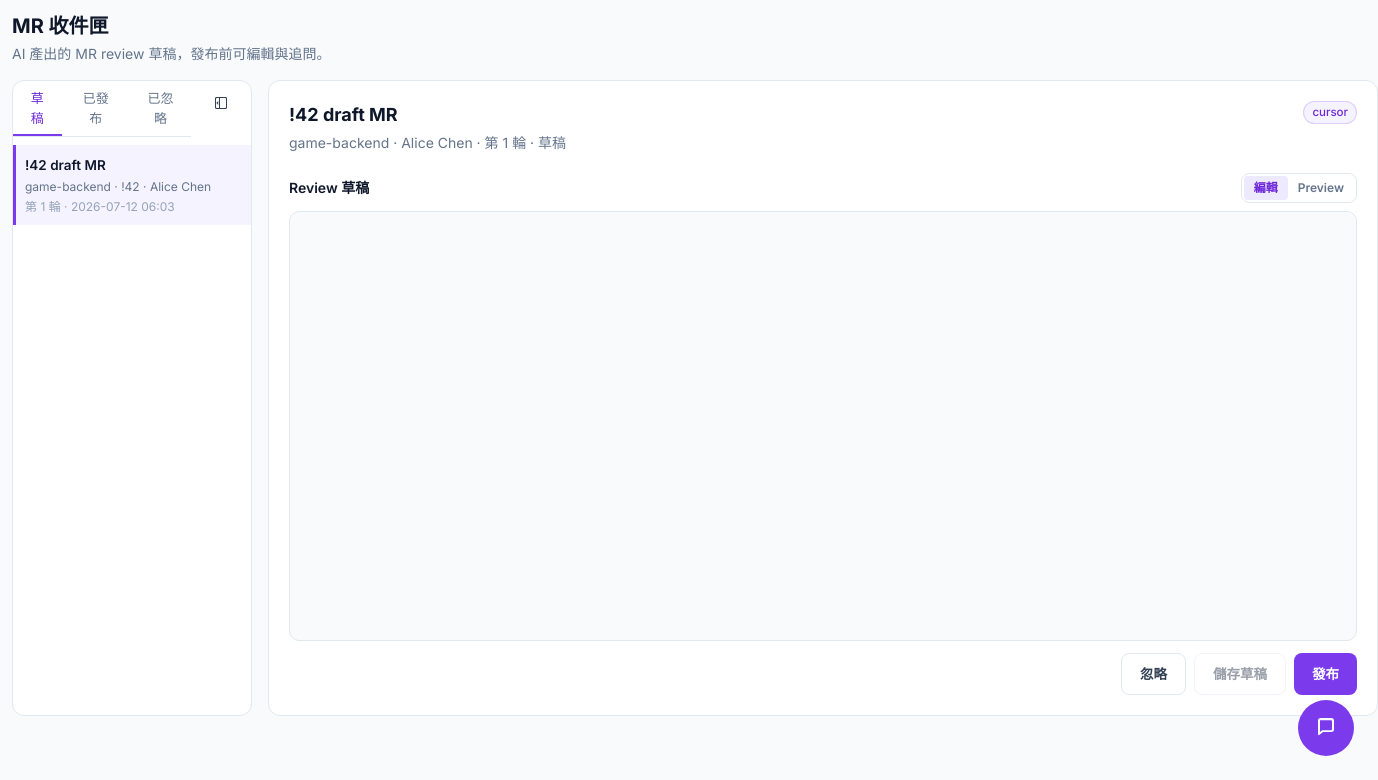
Test: MrInboxPage › preview new version is read-only and keeps editor text
Type "my local edit" into the text box labelled "Review 草稿" at (823, 426), box [289,211,1357,641]
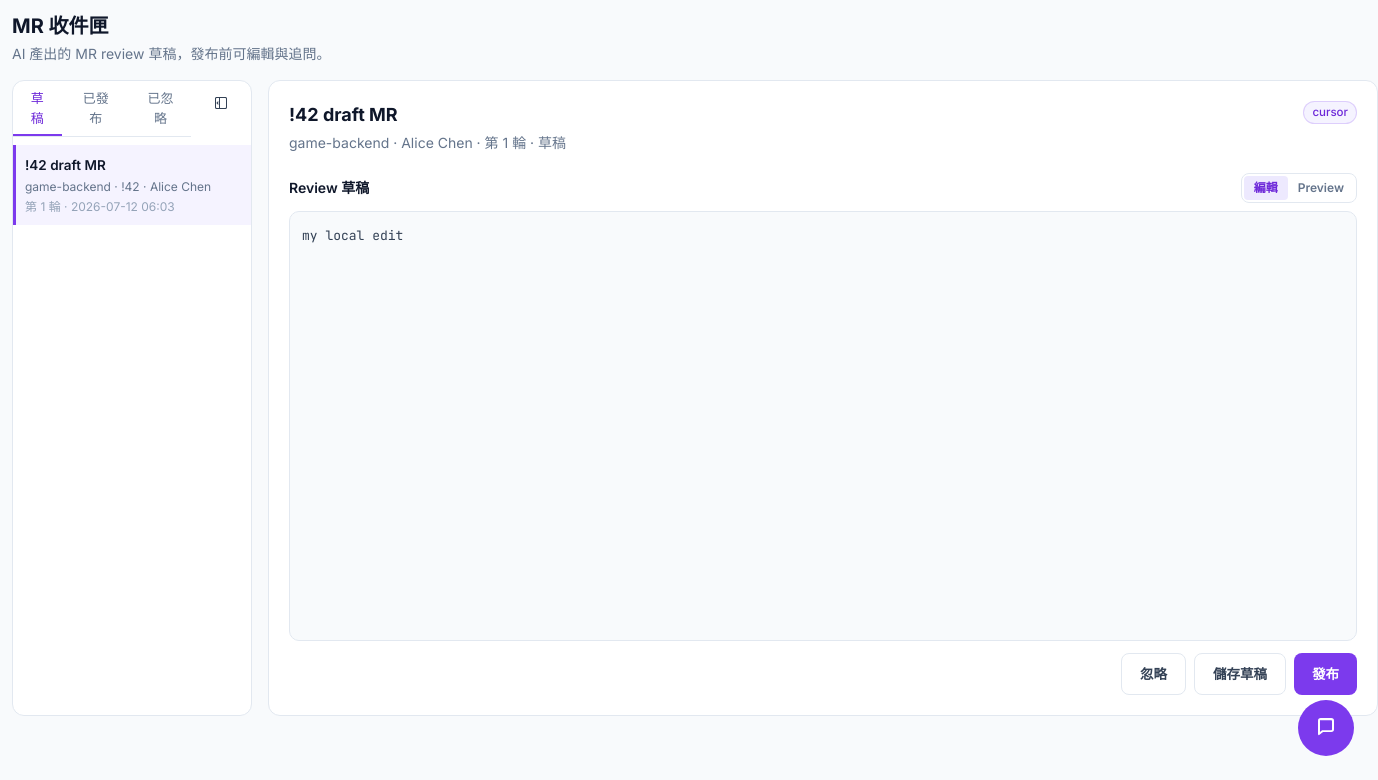
Click the button named "展開 Agent Chat" at (1326, 728), box [1298,700,1354,756]
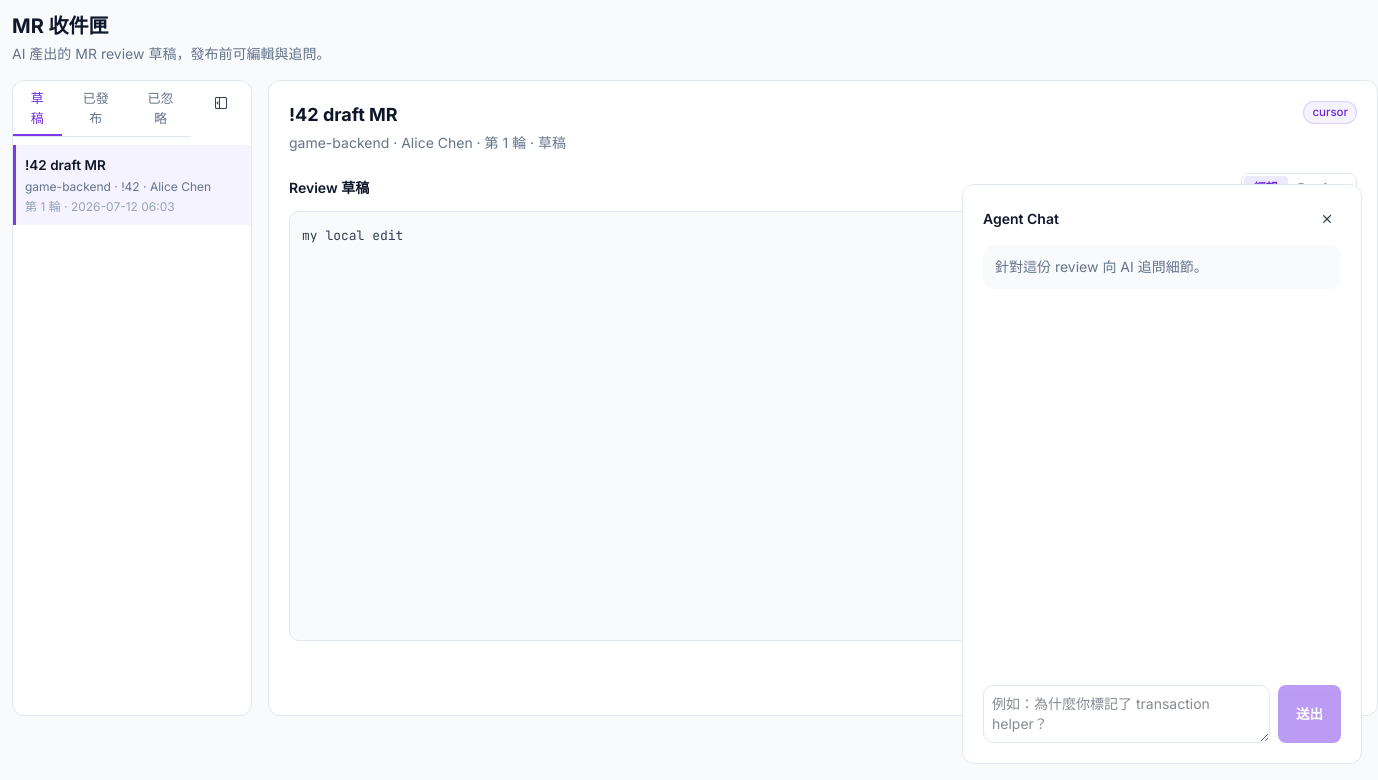
Type "please revise" into the text box with placeholder "例如：為什麼你標記了 transaction helper？" at (1126, 714), box [983,685,1270,743]
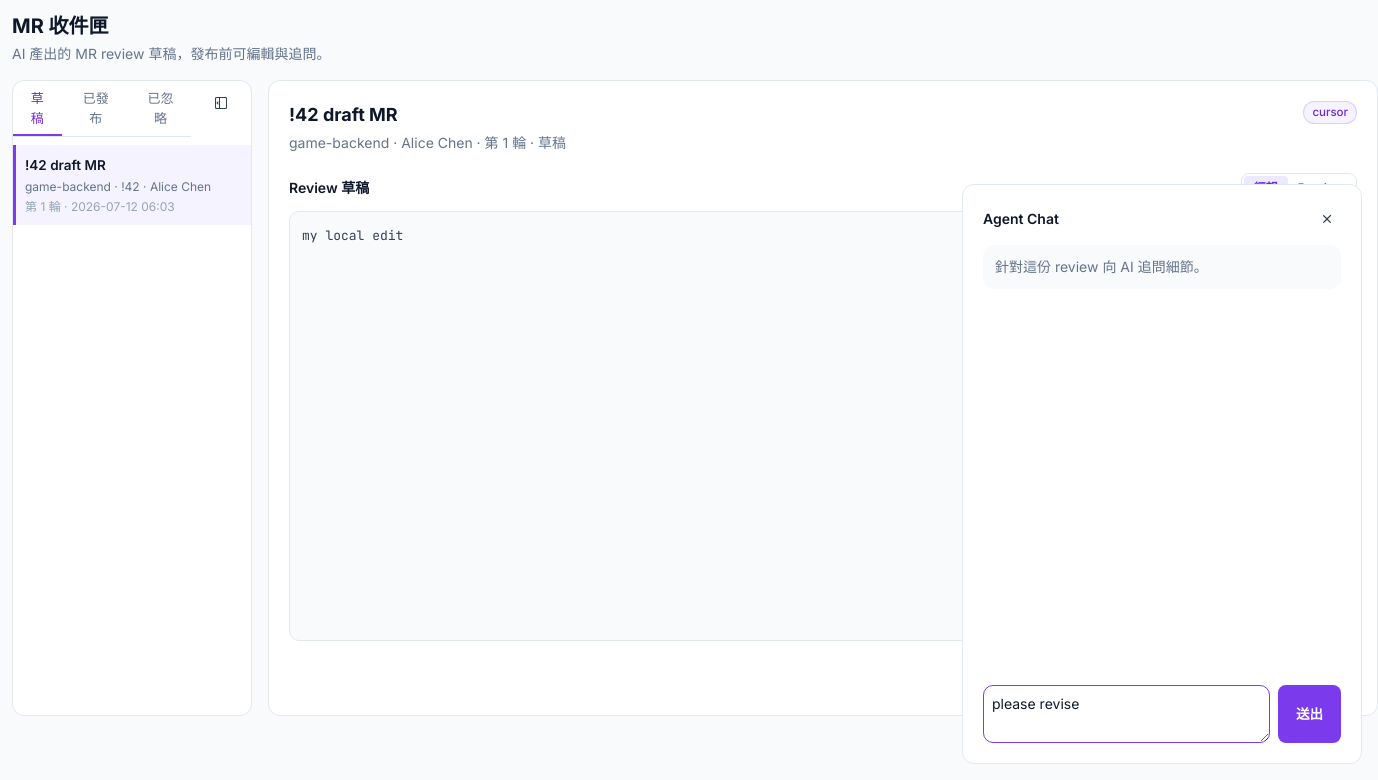
Click the button "送出" at (1310, 714), box [1278,685,1341,743]
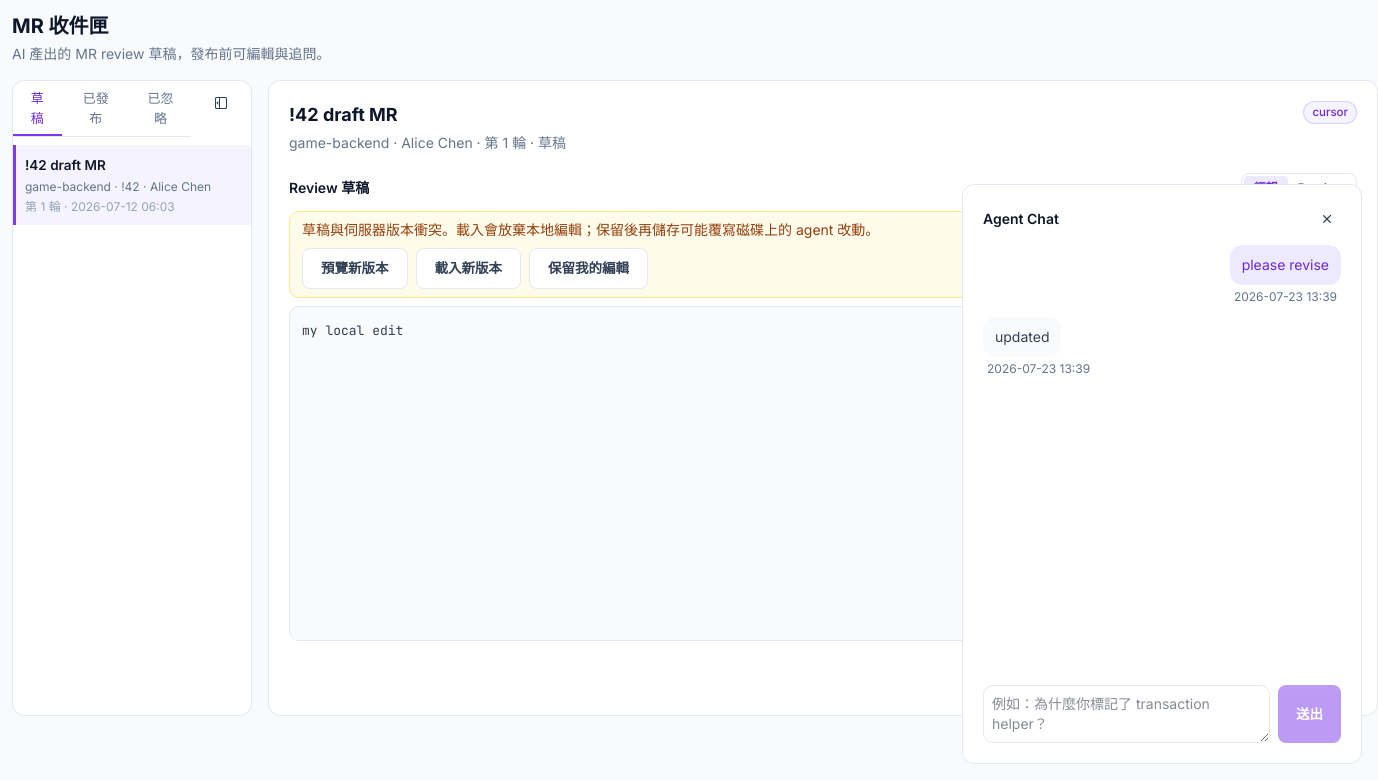
Click the button "預覽新版本" at (355, 269), box [302,248,408,289]
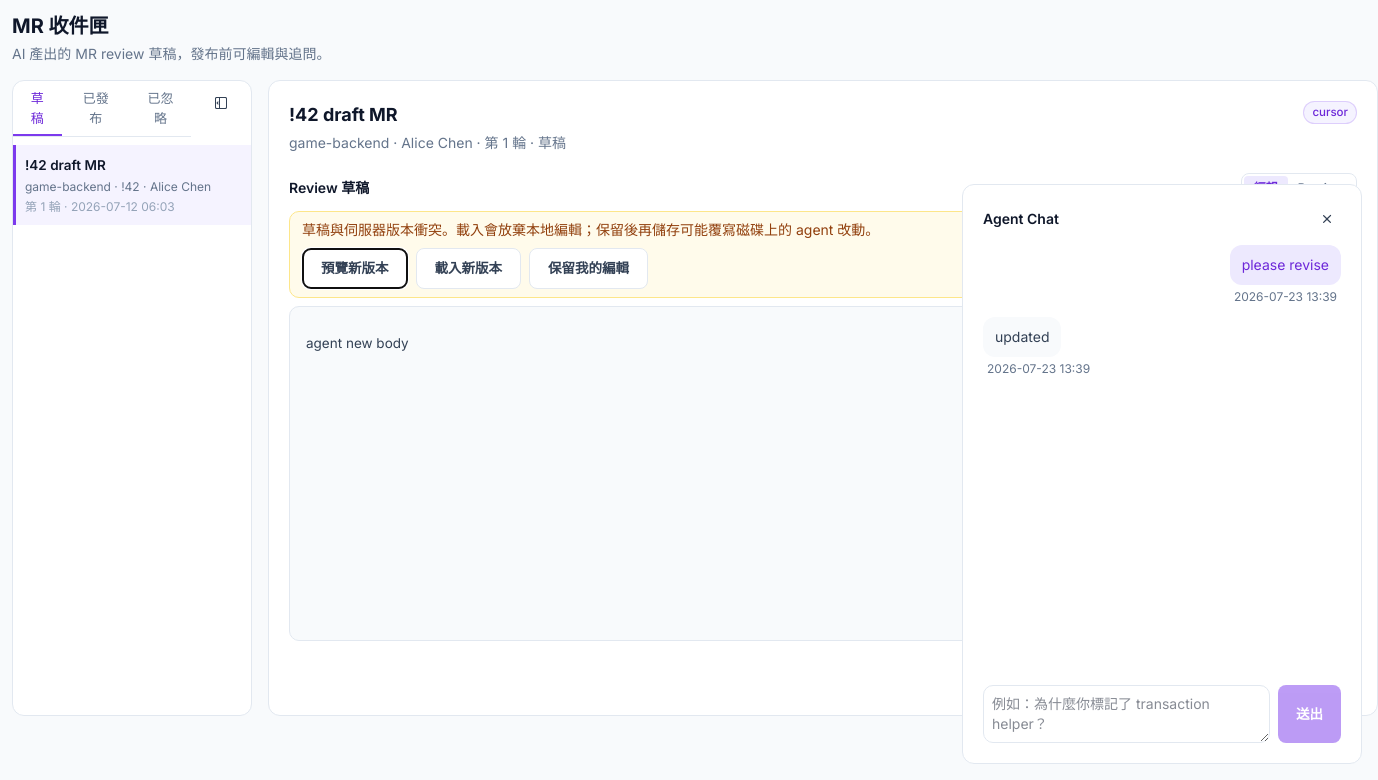
Expected: the element named "衝突草稿預覽" reads "agent new body", [306,335,409,351]
Click the button "保留我的編輯" at (588, 269), box [529,248,648,289]
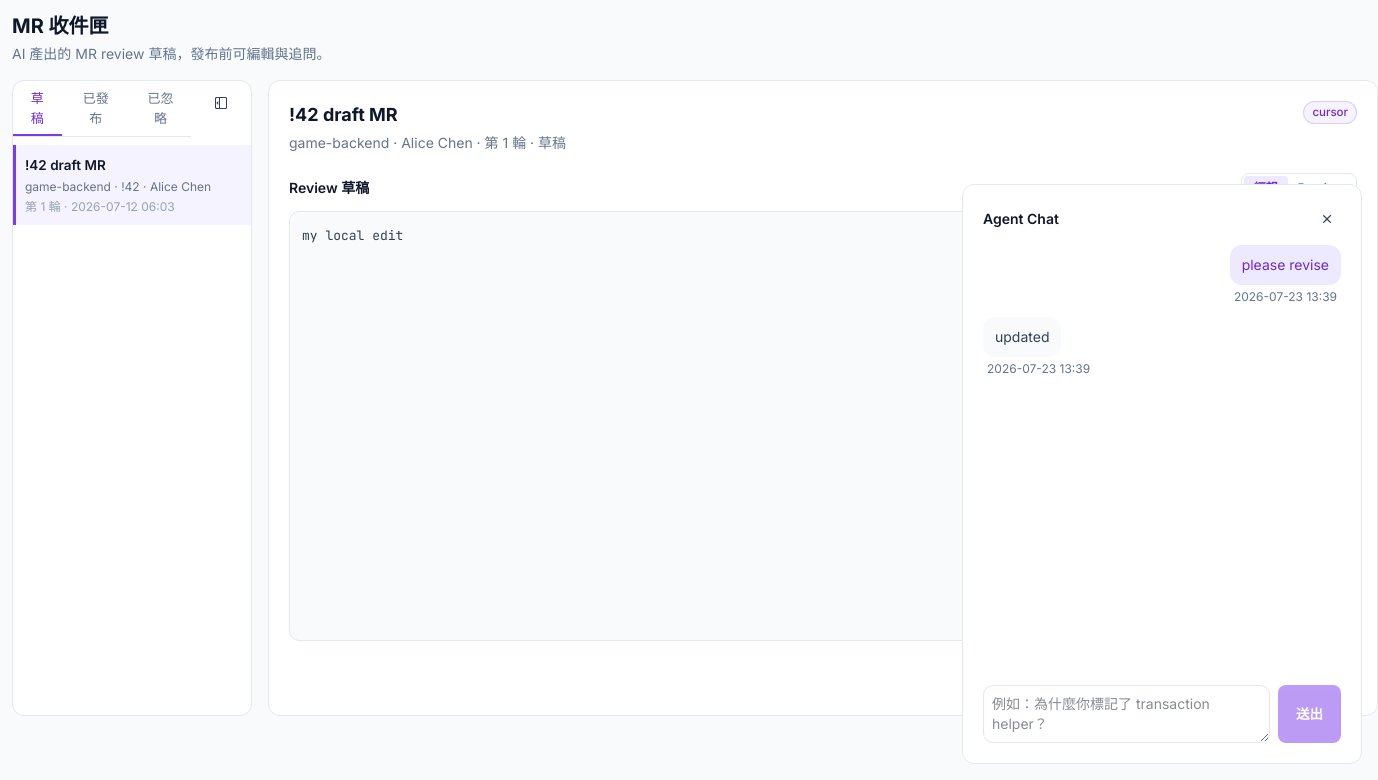
Expected: the text box labelled "Review 草稿" holds "my local edit", [289,211,1357,641]
